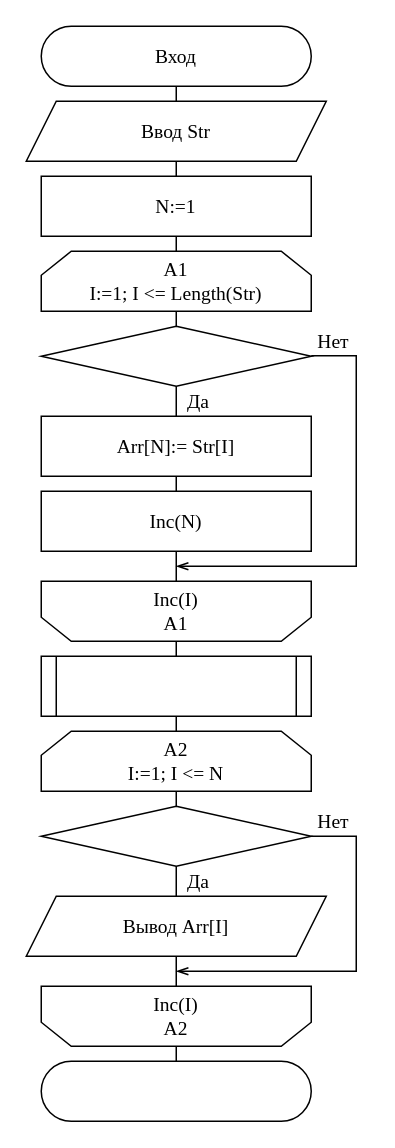
Some shapes in this 395 by 1148 pixel diagram are drawn without their labels. The centre of each missing label's shape, as x and y in pixels:
Arr[I]<>Arr[I+1]: the point at 175,835
BubbleSort(Arr, N): the point at 175,685
Str[I] In Ssgz: the point at 175,355
Выход: the point at 175,1090
